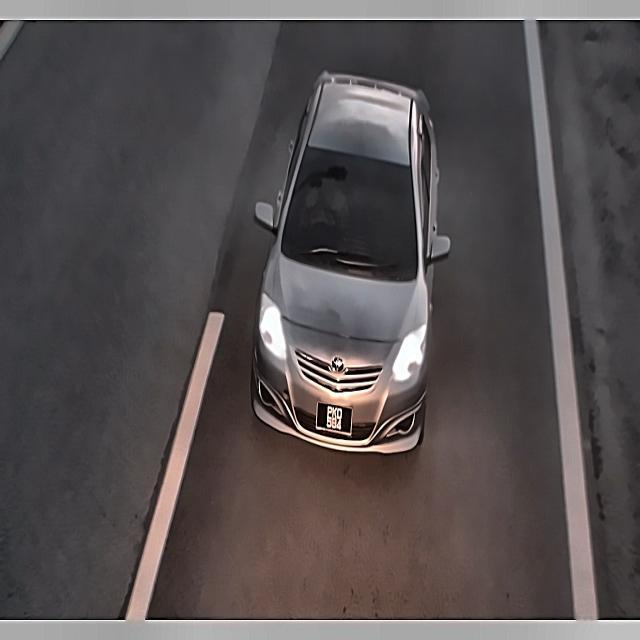car: (312, 398, 357, 441)
